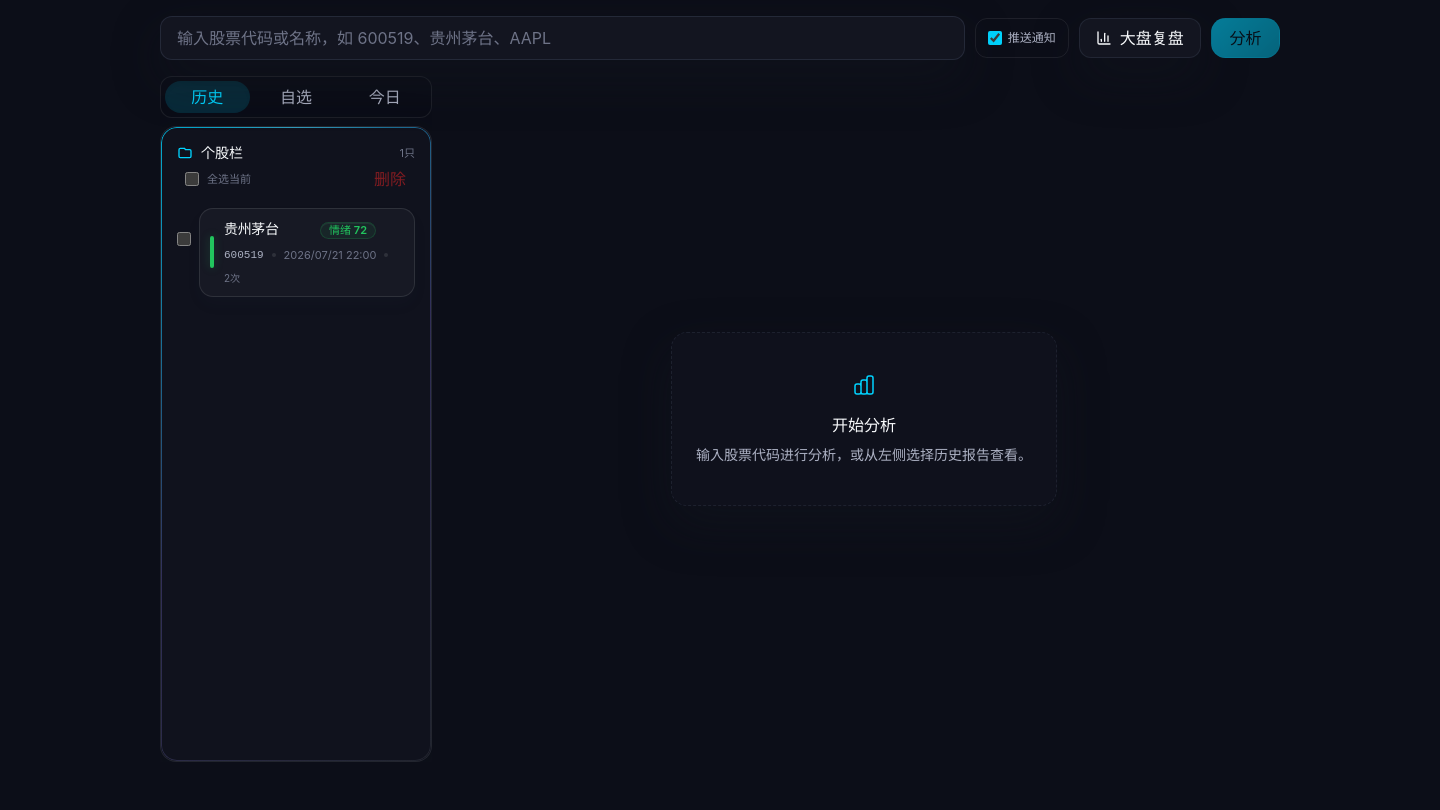
Test: HomePage › keeps pending watchlist submission disabled while fallback history lookup is unresolved
The image size is (1440, 810).
Click the button "自选": click(296, 97) [254,81,338,113]
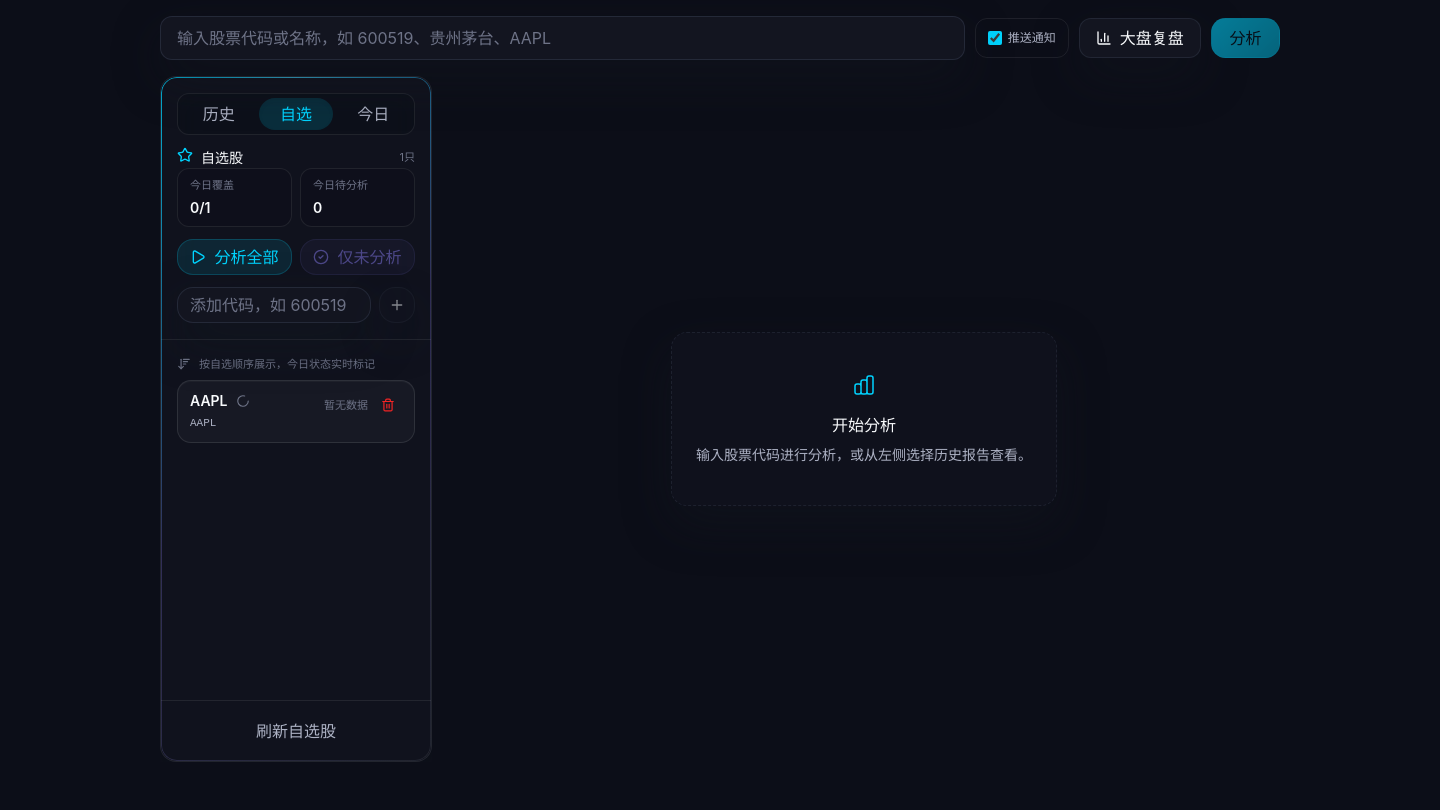
Result: the icon named "确认今日状态中" is shown at [236,394,250,408]
Result: the button "仅未分析" is disabled
Click the button "仅未分析": click(358, 256) [300,238,415,274]
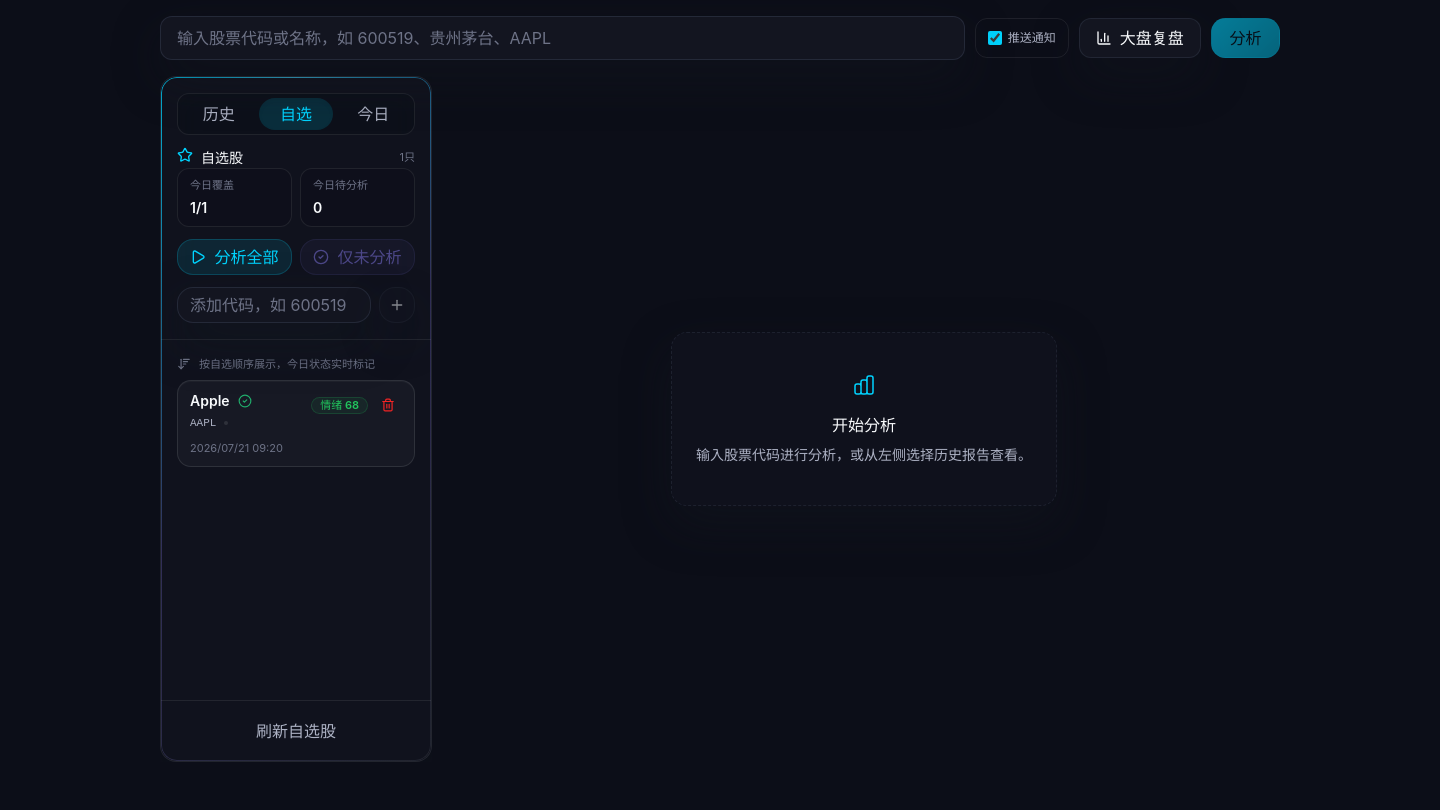
Result: the icon named "今日已分析" is shown at [238,394,252,408]
